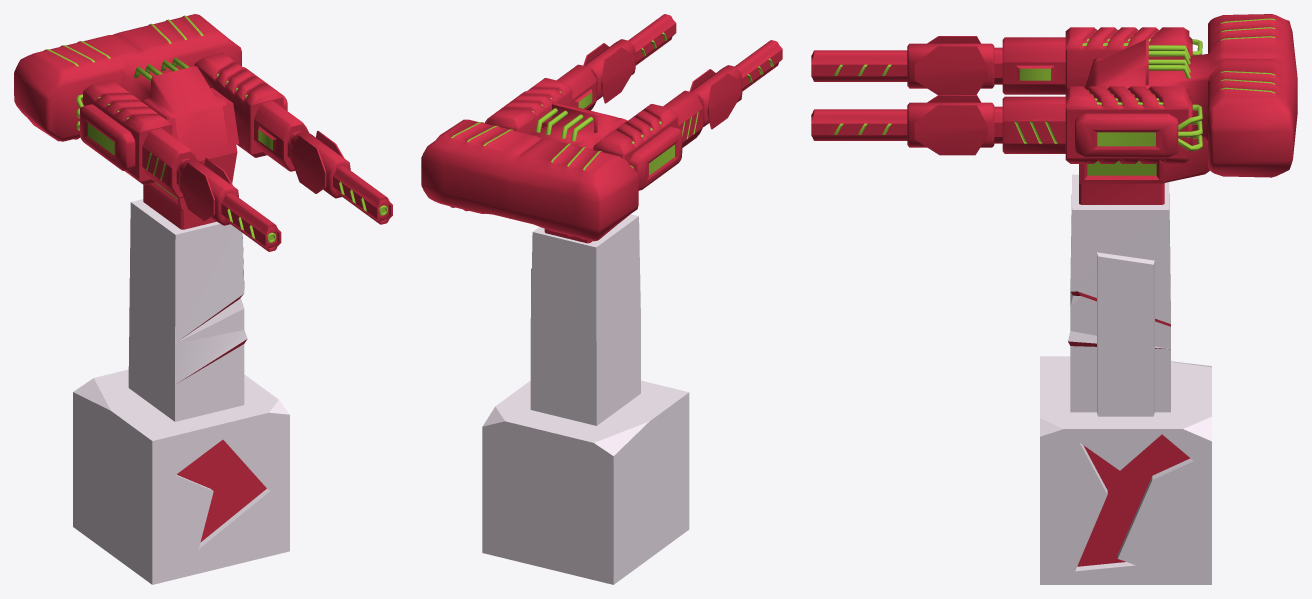
File: Laser_Gun.FBX
The picture shows the model from 3 angles, left to right: view 1: azimuth 30°, elevation 25°; view 2: azimuth 150°, elevation 25°; view 3: azimuth 270°, elevation 25°; orthographic projection. The views are drawn at different scales.
Parts seen in each view (by area): view 1: Laser_Gun_Tower, Laser_Gun; view 2: Laser_Gun_Tower, Laser_Gun; view 3: Laser_Gun, Laser_Gun_Tower.
Boxes of the visible parts, <box> form: Laser_Gun_Tower: <box>73,199,289,584</box>; Laser_Gun: <box>14,14,392,251</box>; Laser_Gun_Tower: <box>482,214,689,584</box>; Laser_Gun: <box>421,14,782,243</box>; Laser_Gun: <box>811,14,1297,204</box>; Laser_Gun_Tower: <box>1040,174,1211,584</box>.
Bounding box in the file's own units: 1.59 × 3.57 × 3.15.
